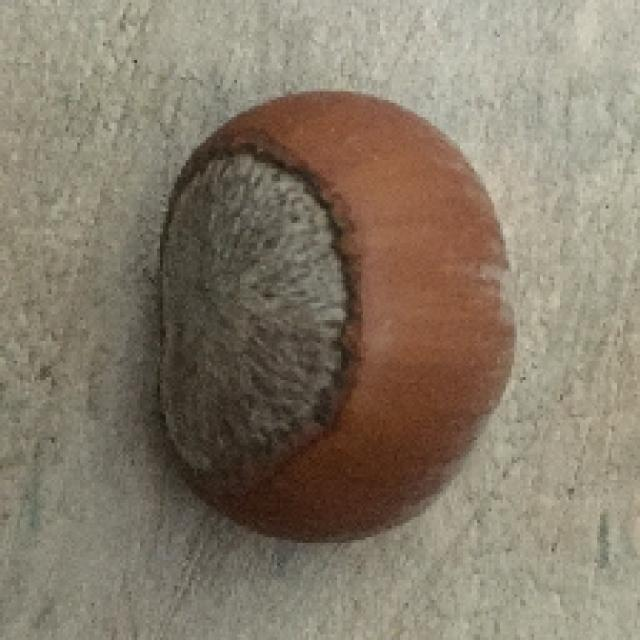qualityHazelnut: (158, 87, 520, 555)
